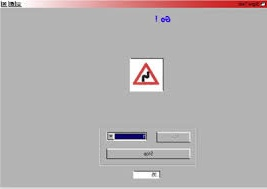Double_bend_right: (132, 62, 159, 85)
